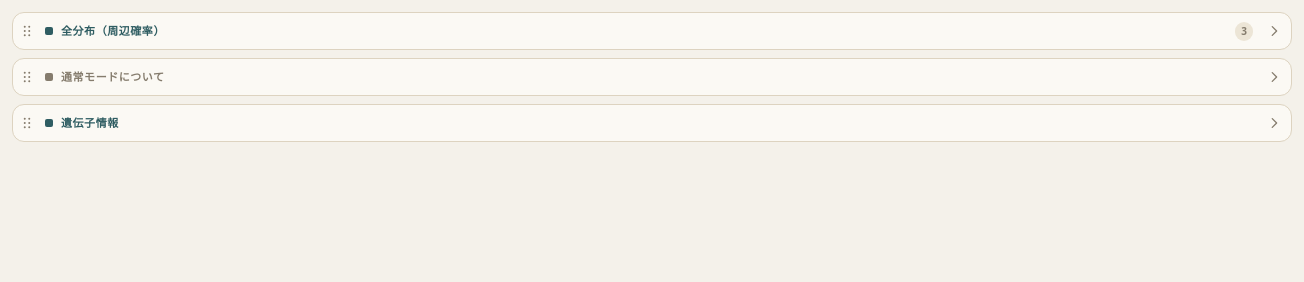
Test: ResultView full distribution › 1%未満の色も集約せず直接一覧に出す (集約ボタンは無い)
This screenshot has width=1304, height=282.
Click the button "全分布（周辺確率） 3": (113, 30) [45,14,1291,48]
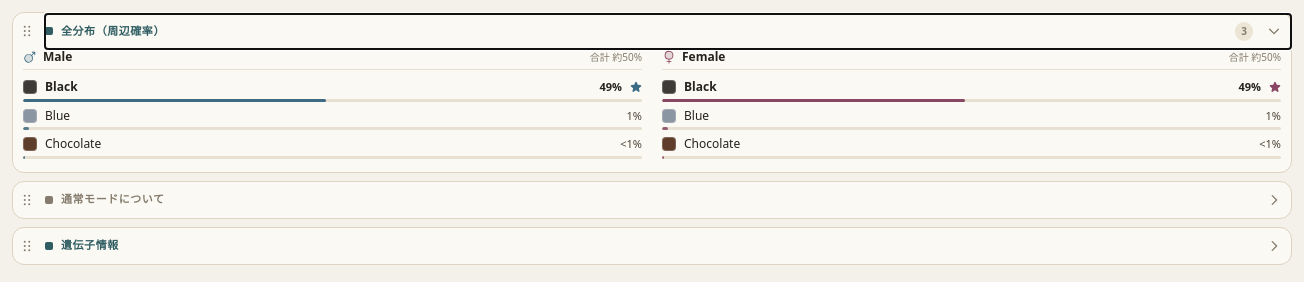
Check: the 1st text "Chocolate" is shown, box [45,135,101,152]
Check: the 1st text "Black" is shown, box [45,78,78,95]
Check: the 1st text "Blue" is shown, box [45,107,70,124]
